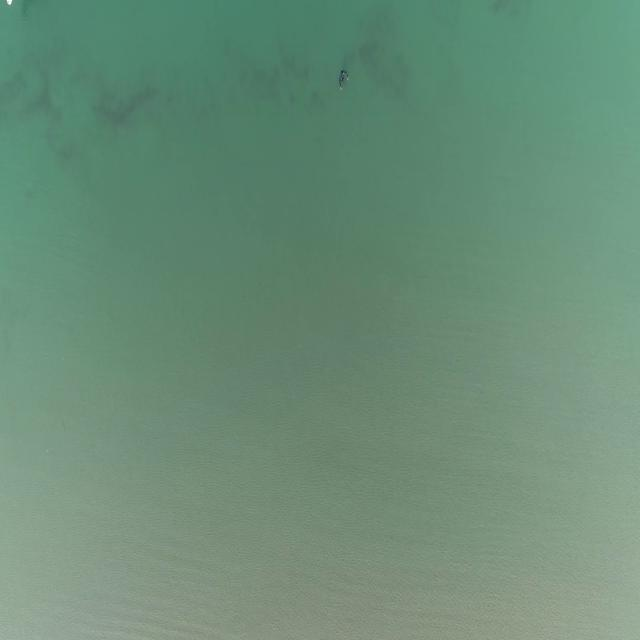person: (338, 69, 351, 90)
